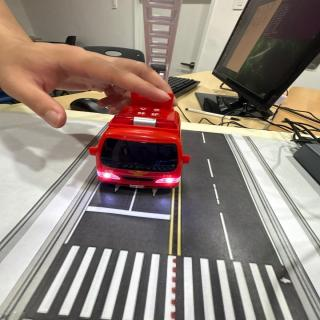Fire_truck: (89, 93, 190, 195)
